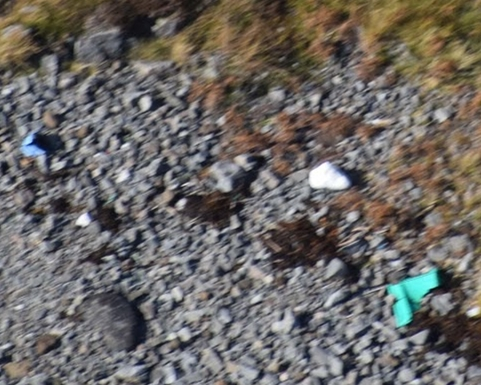white_in_green: (360, 243, 469, 345), (289, 139, 370, 212), (1, 111, 73, 176)
